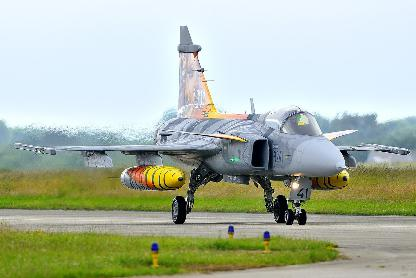JAS39: (14, 25, 410, 223)
